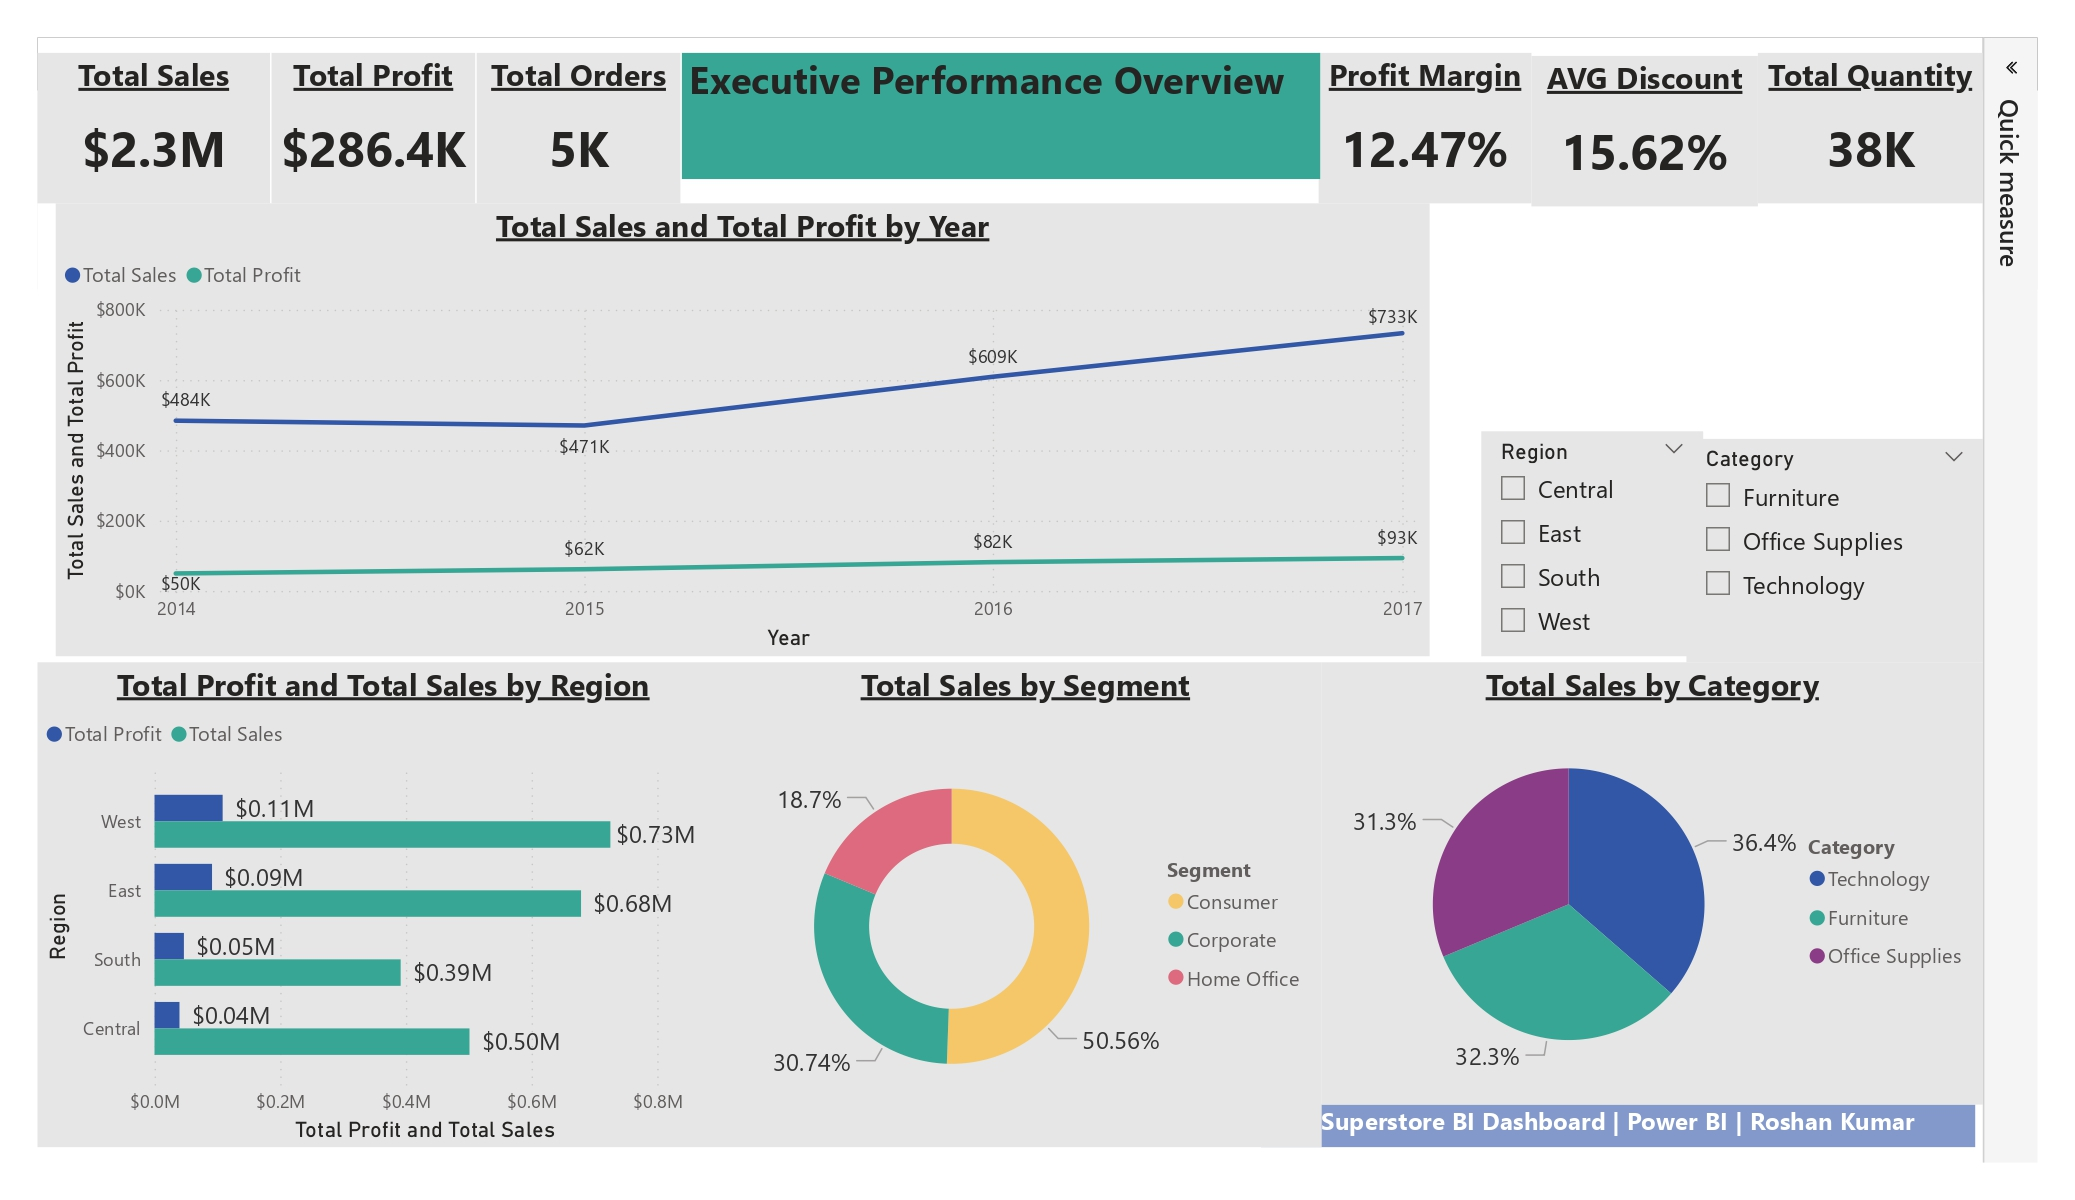

The page's visual inventory and layout, read from the dashboard file:
{"tool":"powerbi","page":{"name":"Executive Performance Overview","canvas":[1280,720],"ordinal":0},"visuals":[{"type":"card","title":"Total Sales","fields":{"Values":["Superstore.Total Sales"]},"box":[0,0,153.3,99.4],"z":0},{"type":"card","title":"Total Profit","fields":{"Values":["Superstore.Total Profit"]},"box":[153.5,0,134.7,99.4],"z":1000},{"type":"textbox","title":"Superstore BI Dashboard | Power BI | Roshan Kumar","box":[805.1,692.2,469.9,28.6],"z":2000},{"type":"card","title":"Profit Margin","fields":{"Values":["Superstore.Profit Margin"]},"box":[843.2,0,139.8,99.4],"z":3000},{"type":"card","title":"Total Orders","fields":{"Values":["Superstore.Total Orders"]},"box":[288.6,0,134.7,99.4],"z":4000},{"type":"card","title":"Total Quantity","fields":{"Values":["Superstore.Total Quantiy"]},"box":[1131.8,0,148.2,99.4],"z":5000},{"type":"card","title":"AVG Discount","fields":{"Values":["Superstore.AVG Discount"]},"box":[983.3,1.7,148.2,99.4],"z":6000},{"type":"clusteredBarChart","fields":{"Category":["Superstore.Region"],"Y":["Superstore.Total Profit","Superstore.Total Sales"]},"box":[0,400.8,454.7,320],"z":7000},{"type":"lineChart","fields":{"Y":["Superstore.Total Sales","Superstore.Total Profit"],"Category":["Superstore.Order Date.Variation.Date Hierarchy.Year","Superstore.Order Date.Variation.Date Hierarchy.Quarter"]},"box":[11.8,99.4,904.4,298.1],"z":8000},{"type":"donutChart","fields":{"Y":["Superstore.Total Sales"],"Category":["Superstore.Segment"]},"box":[454.7,400.8,390.7,320],"z":9000},{"type":"pieChart","fields":{"Y":["Superstore.Total Sales"],"Category":["Superstore.Category"]},"box":[845.5,400.8,434.5,291.4],"z":10000},{"type":"slicer","fields":{"Values":["Superstore.Region"]},"box":[949.9,249.3,146.5,148.2],"z":11000},{"type":"slicer","fields":{"Values":["Superstore.Category"]},"box":[1084.6,254.3,195.4,146.5],"z":12000},{"type":"textbox","title":"Executive Performance Overview","box":[424.4,0,419.4,82.5],"z":13000}]}

Visuals, with their boxes on the page's 1280x720 design canvas (x1, y1, x2, y2). These are canvas units, not pixel positions in the 2075x1200 screenshot, which may show the page scaled, cropped or inside an application window:
"Total Sales" card: (x1=0, y1=0, x2=153, y2=99)
"Total Profit" card: (x1=154, y1=0, x2=288, y2=99)
"Superstore BI Dashboard | Power BI | Roshan Kumar" textbox: (x1=805, y1=692, x2=1275, y2=721)
"Profit Margin" card: (x1=843, y1=0, x2=983, y2=99)
"Total Orders" card: (x1=289, y1=0, x2=423, y2=99)
"Total Quantity" card: (x1=1132, y1=0, x2=1280, y2=99)
"AVG Discount" card: (x1=983, y1=2, x2=1132, y2=101)
clusteredBarChart - Superstore.Region x Superstore.Total Profit: (x1=0, y1=401, x2=455, y2=721)
lineChart - Superstore.Total Sales x Superstore.Total Profit: (x1=12, y1=99, x2=916, y2=398)
donutChart - Superstore.Total Sales x Superstore.Segment: (x1=455, y1=401, x2=845, y2=721)
pieChart - Superstore.Total Sales x Superstore.Category: (x1=846, y1=401, x2=1280, y2=692)
slicer - Superstore.Region: (x1=950, y1=249, x2=1096, y2=398)
slicer - Superstore.Category: (x1=1085, y1=254, x2=1280, y2=401)
"Executive Performance Overview" textbox: (x1=424, y1=0, x2=844, y2=82)
